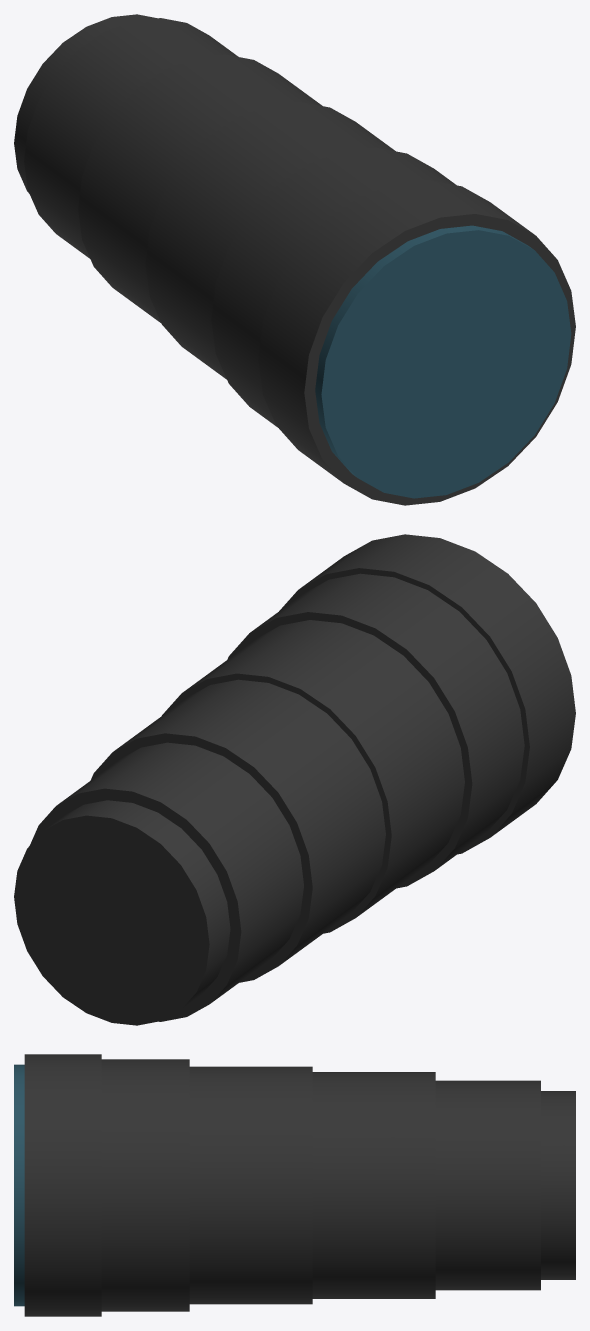
3 renders of one model, top to bottom at view 1: azimuth 30°, elevation 25°; view 2: azimuth 150°, elevation 25°; view 3: azimuth 270°, elevation 25°, orthographic. The views are drawn at different scales.
Parts seen in each view (by area): view 1: Lens_Barrel, Lens_Glass; view 2: Lens_Barrel; view 3: Lens_Barrel, Lens_Glass.
Boxes of the visible parts, x1,y1,x2,y2 form: Lens_Barrel: [14, 14, 575, 505]; Lens_Glass: [315, 225, 571, 498]; Lens_Barrel: [14, 534, 575, 1025]; Lens_Barrel: [24, 1054, 575, 1316]; Lens_Glass: [14, 1064, 24, 1306].
Bounding box in the file's own units: 0.1479 × 0.1479 × 0.3155.
